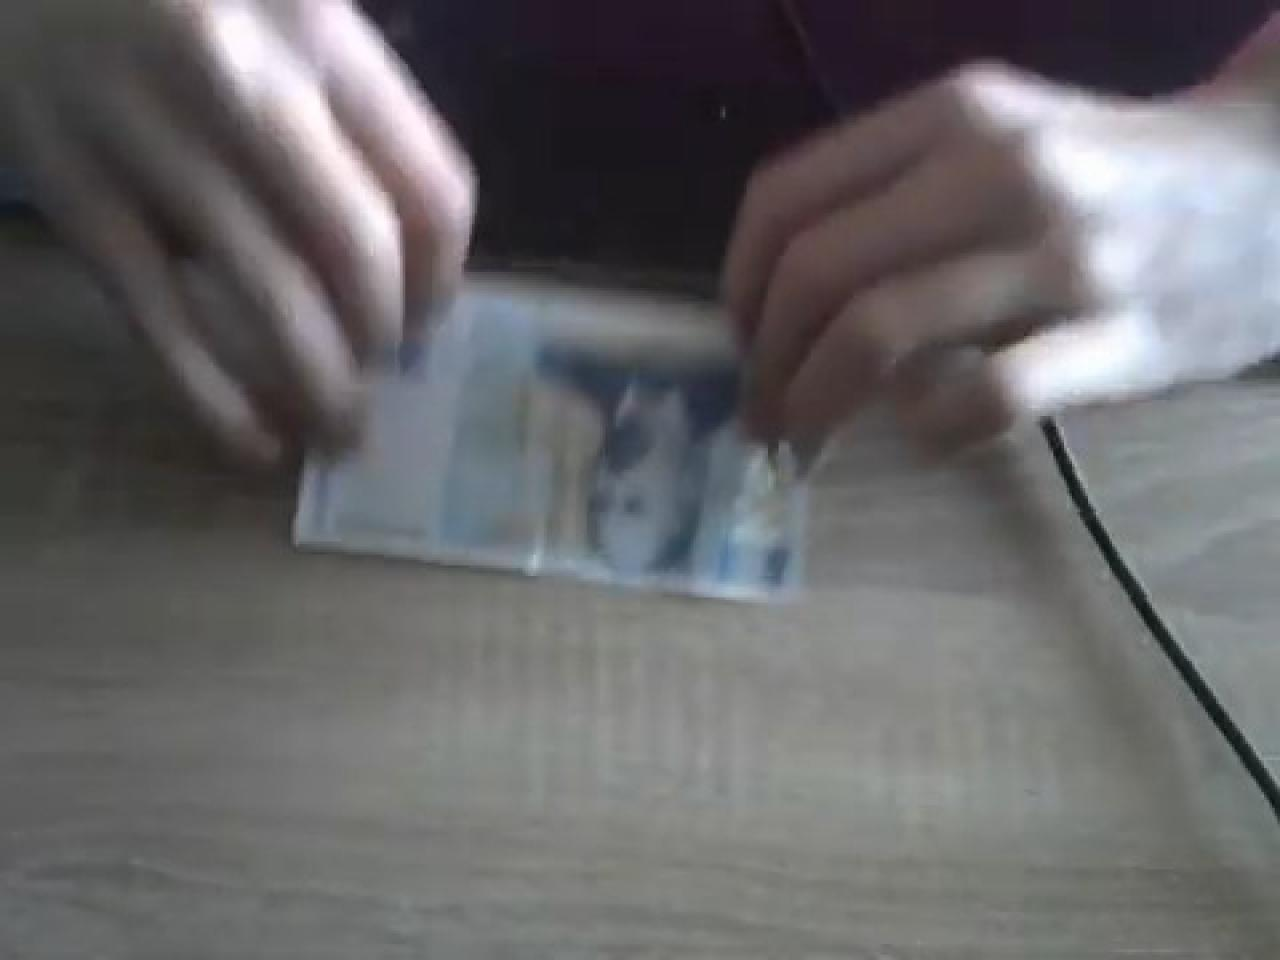20leva: (288, 259, 818, 608)
